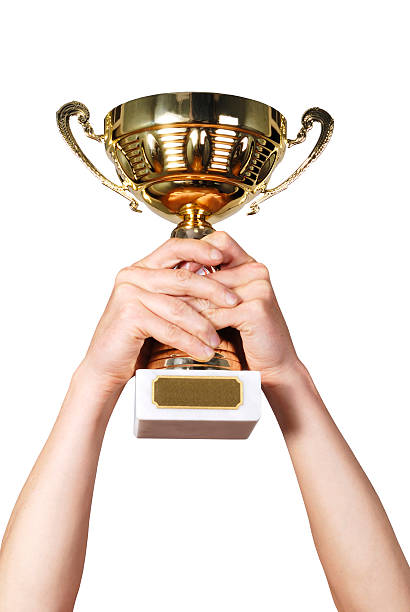trophy: (49, 88, 340, 442)
